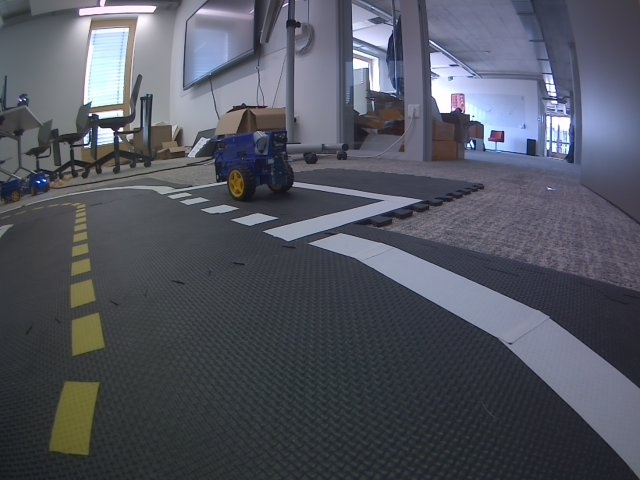Bot: (214, 130, 295, 200), (28, 172, 51, 196), (0, 180, 22, 200), (19, 94, 29, 106)
occupiedSlot: (162, 177, 425, 243)
